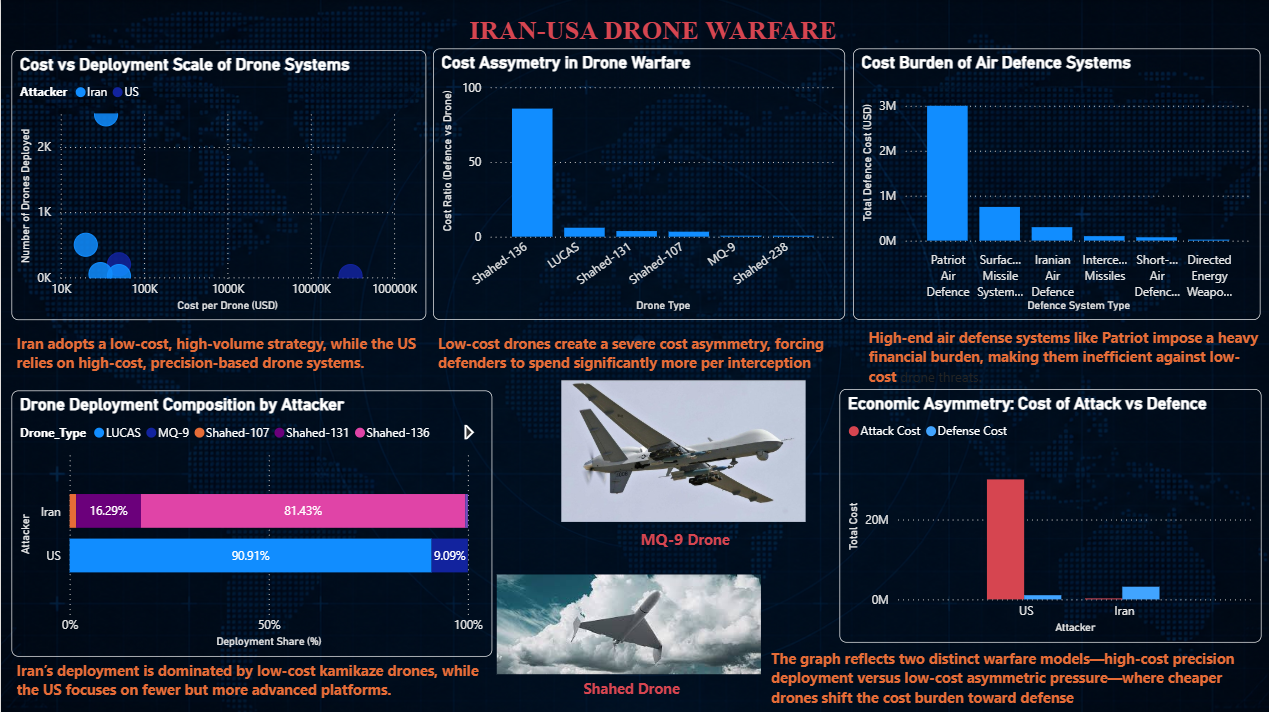

This screenshot's page, from the dashboard's own definition file:
{"tool":"powerbi","page":{"name":"IRAN-USA WAR","canvas":[1280,720],"ordinal":4},"visuals":[{"type":"scatterChart","title":"Cost vs Deployment Scale of Drone Systems ","fields":{"X":["Drone_Phase_2.Cost_USD"],"Y":["Drone_Phase_2.Quantity"],"Series":["Drone_Phase_2.Attacker"],"Size":["Count(Drone_Phase_2.Quantity)1"]},"box":[10,51.4,418.6,272.9],"z":0},{"type":"columnChart","title":"Cost Assymetry in Drone Warfare","fields":{"Category":["Drone_Phase_2.Drone_Type"],"Y":["Sum(Drone_Phase_2.Cost_Ratio)"]},"box":[435.7,50,415.7,274.3],"z":1000},{"type":"columnChart","title":"Cost Burden of Air Defence Systems","fields":{"Category":["Drone_Phase_2.Defender_Type"],"Y":["Sum(Drone_Phase_2.Defence_Cost_USD)"]},"box":[860,50,411.4,274.3],"z":2000},{"type":"hundredPercentStackedBarChart","title":"Drone Deployment Composition by Attacker","fields":{"Series":["Drone_Phase_2.Drone_Type"],"Category":["Drone_Phase_2.Attacker"],"Y":["Sum(Drone_Phase_2.Quantity)"]},"box":[10,395,485,268.3],"z":3000},{"type":"clusteredColumnChart","title":"Economic Asymmetry: Cost of Attack vs Defence","fields":{"Category":["Drone_Phase_2.Attacker"],"Y":["Sum(Drone_Phase_2.Cost_USD)","Sum(Drone_Phase_2.Defence_Cost_USD)"]},"box":[845.7,394.3,425.7,255.7],"z":4000},{"type":"textbox","box":[467.9,10.6,401.3,48.5],"z":5000},{"type":"image","box":[495.7,544.3,277.1,175.7],"z":6000},{"type":"textbox","box":[10,331.7,440,63.3],"z":7000},{"type":"textbox","box":[436.7,331.7,448.3,63.3],"z":8000},{"type":"textbox","box":[870,325,408.3,80],"z":9000},{"type":"textbox","box":[10,661.7,485,58.3],"z":10000},{"type":"textbox","box":[772.9,650,505.7,70],"z":11000},{"type":"image","box":[560,305.7,257.1,300],"z":12000},{"type":"textbox","box":[640,528.6,105.7,31.4],"z":13000},{"type":"textbox","box":[582.9,680,122.9,40],"z":14000}]}

Visuals, with their boxes in screenshot pixels (x1, y1, x2, y2), scaled from the page's 1280x720 canvas onto the 1269x712 screenshot:
"Cost vs Deployment Scale of Drone Systems " scatterChart: {"left": 10, "top": 51, "right": 425, "bottom": 321}
"Cost Assymetry in Drone Warfare" columnChart: {"left": 432, "top": 49, "right": 844, "bottom": 321}
"Cost Burden of Air Defence Systems" columnChart: {"left": 853, "top": 49, "right": 1260, "bottom": 321}
"Drone Deployment Composition by Attacker" hundredPercentStackedBarChart: {"left": 10, "top": 391, "right": 491, "bottom": 656}
"Economic Asymmetry: Cost of Attack vs Defence" clusteredColumnChart: {"left": 838, "top": 390, "right": 1260, "bottom": 643}
textbox: {"left": 464, "top": 10, "right": 862, "bottom": 58}
image: {"left": 491, "top": 538, "right": 766, "bottom": 711}
textbox: {"left": 10, "top": 328, "right": 446, "bottom": 391}
textbox: {"left": 433, "top": 328, "right": 877, "bottom": 391}
textbox: {"left": 863, "top": 321, "right": 1267, "bottom": 400}
textbox: {"left": 10, "top": 654, "right": 491, "bottom": 711}
textbox: {"left": 766, "top": 643, "right": 1268, "bottom": 711}
image: {"left": 555, "top": 302, "right": 810, "bottom": 599}
textbox: {"left": 634, "top": 523, "right": 739, "bottom": 554}
textbox: {"left": 578, "top": 672, "right": 700, "bottom": 711}
